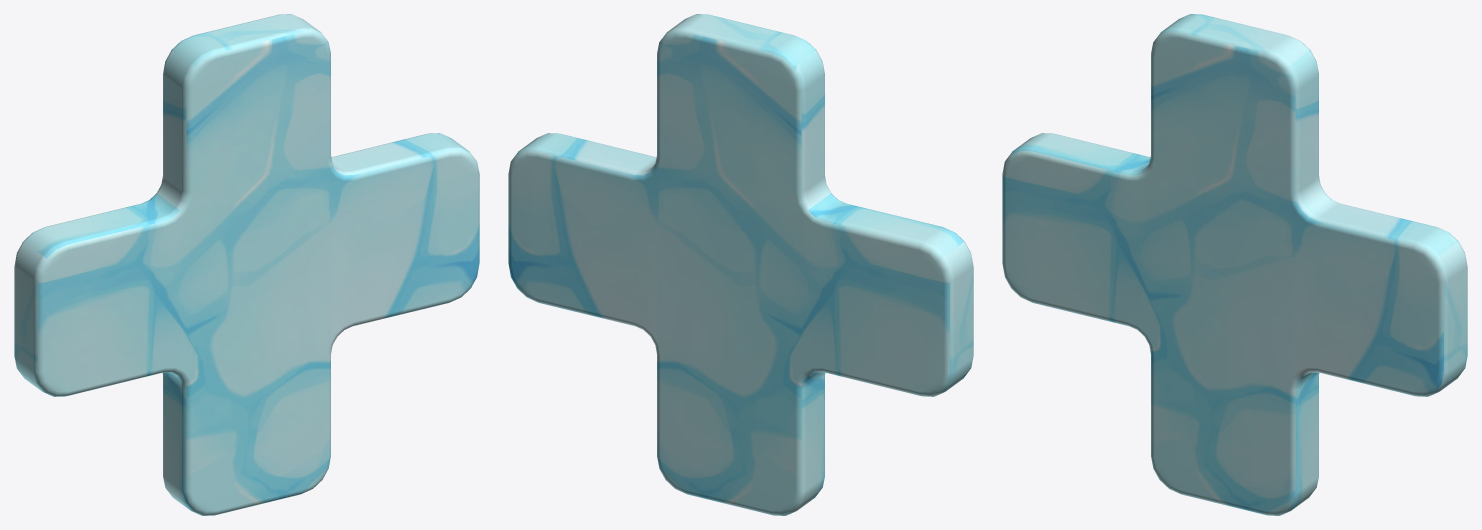
Rendered from Ice_PlusShape.fbx.
3 views of the same model, side by side, from view 1: azimuth 30°, elevation 25°; view 2: azimuth 150°, elevation 25°; view 3: azimuth 330°, elevation 25° (orthographic).
Parts seen in each view (by area): view 1: Ice_PlusShape; view 2: Ice_PlusShape; view 3: Ice_PlusShape.
Part boxes in pixels (x1=…): Ice_PlusShape: x1=14, y1=14, x2=479, y2=515; Ice_PlusShape: x1=508, y1=14, x2=973, y2=515; Ice_PlusShape: x1=1002, y1=14, x2=1467, y2=515.
Bounding box in the file's own units: 3 × 3 × 0.3.
Materials: 1 (1 with a texture image).
